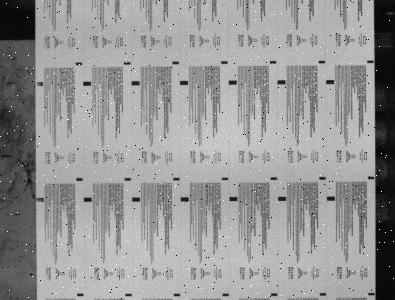backgroundclutter: (30, 273, 33, 276)
incorrect qblock: (36, 197, 43, 202), (37, 82, 43, 86)
qblock: (180, 80, 188, 85), (83, 81, 91, 86), (229, 80, 237, 85), (132, 197, 140, 202), (84, 197, 92, 202), (131, 81, 140, 85), (326, 80, 335, 84), (180, 197, 189, 201), (278, 197, 287, 201), (278, 80, 286, 84), (229, 197, 237, 201), (327, 196, 335, 200)
smallqblock: (270, 60, 277, 64), (124, 177, 131, 181), (319, 176, 326, 180), (368, 176, 375, 180), (222, 293, 230, 296), (270, 177, 278, 180), (172, 61, 179, 64), (77, 293, 84, 296), (221, 61, 228, 64), (124, 62, 131, 65), (125, 293, 132, 296), (75, 62, 82, 65), (318, 60, 325, 63), (173, 293, 180, 296), (319, 293, 326, 296), (271, 293, 278, 296), (222, 177, 229, 180), (173, 177, 180, 180), (76, 178, 83, 181), (368, 292, 375, 295), (368, 60, 374, 63)
